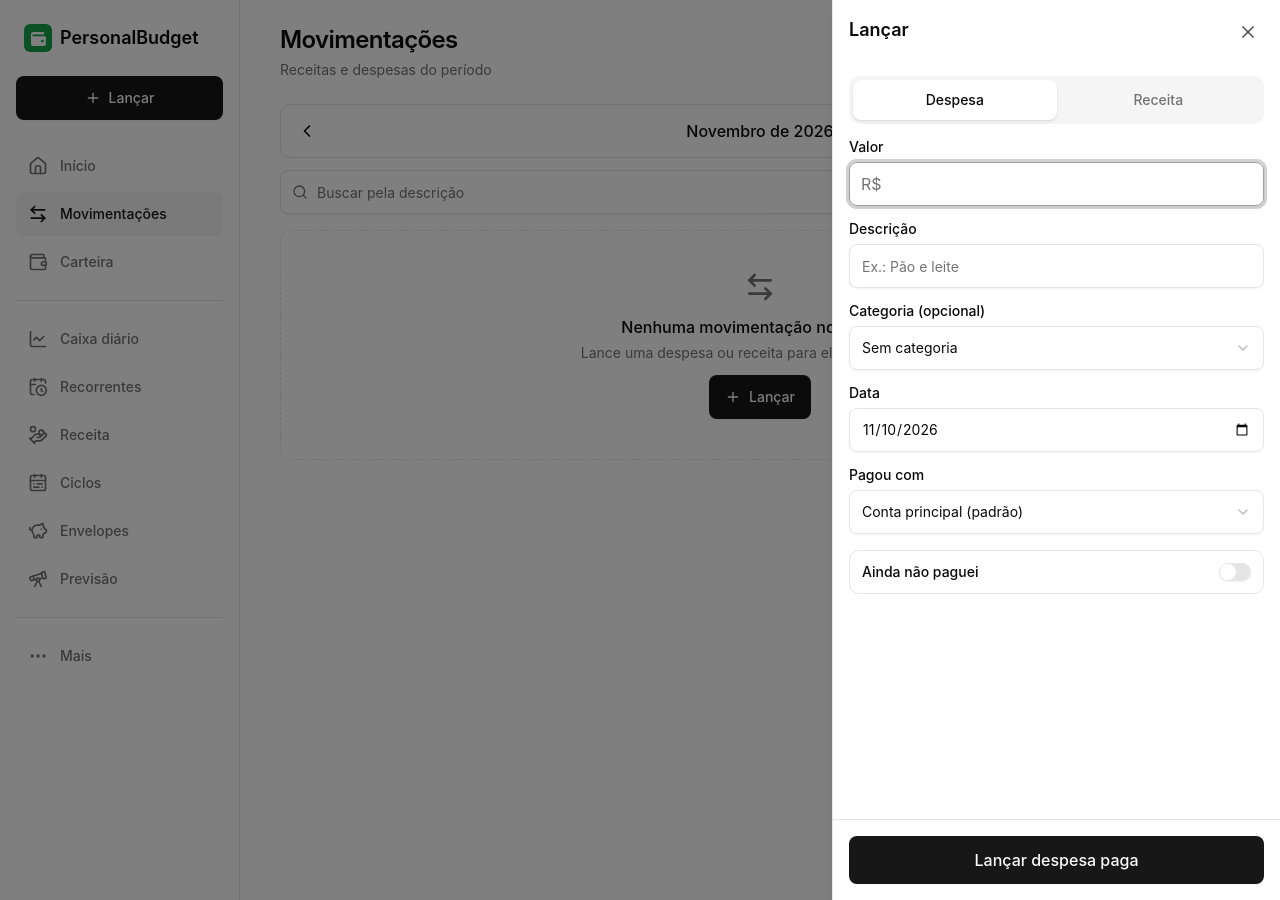
Test: QuickLaunchSheet › should launch on a card as a one-installment purchase and remember the card
Type "49,90" into the field labelled "Valor". click: (1056, 184)
box: [849, 162, 1264, 206]
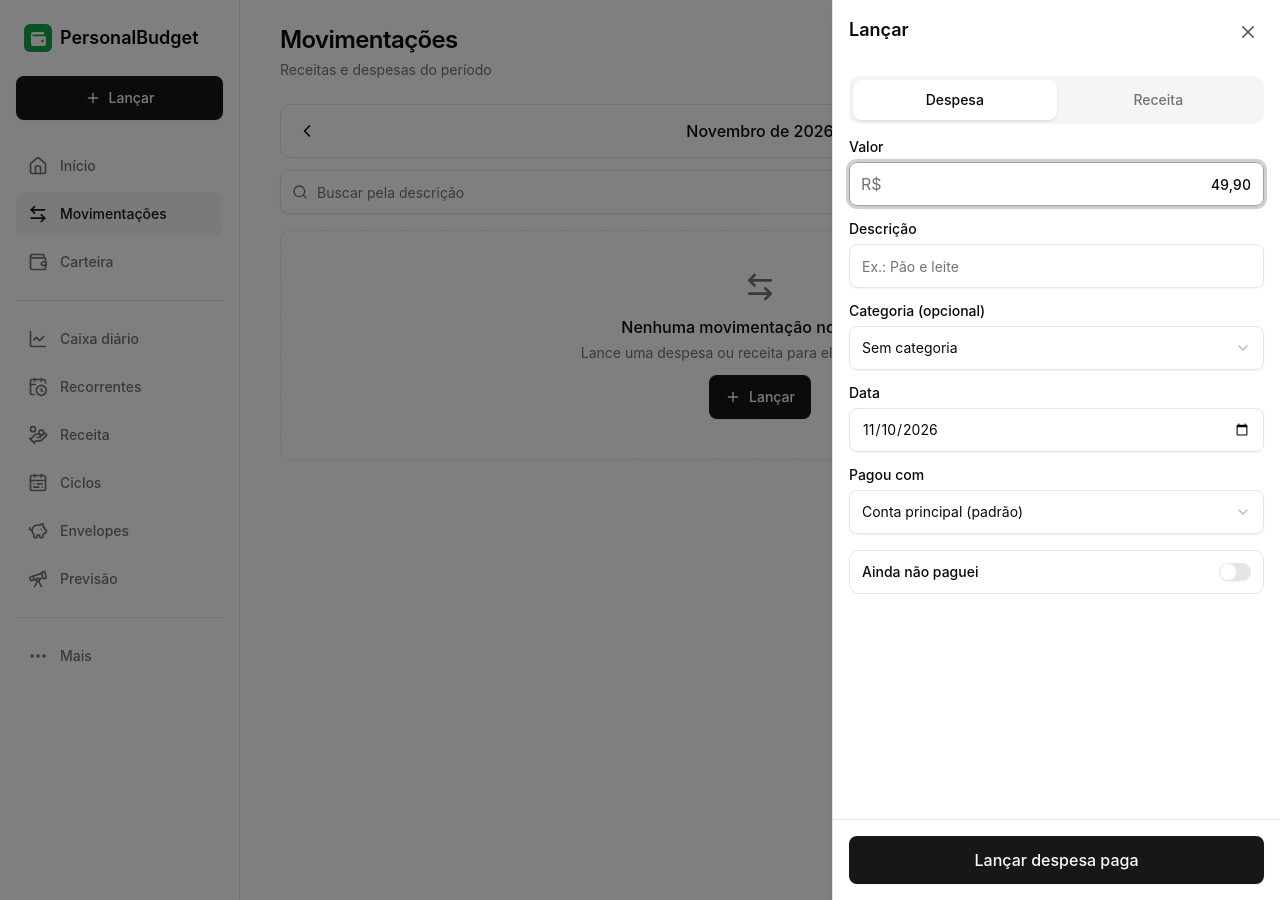
Type "Livro novo" into the field labelled "Descrição". click: (1056, 266)
box: [849, 244, 1264, 288]
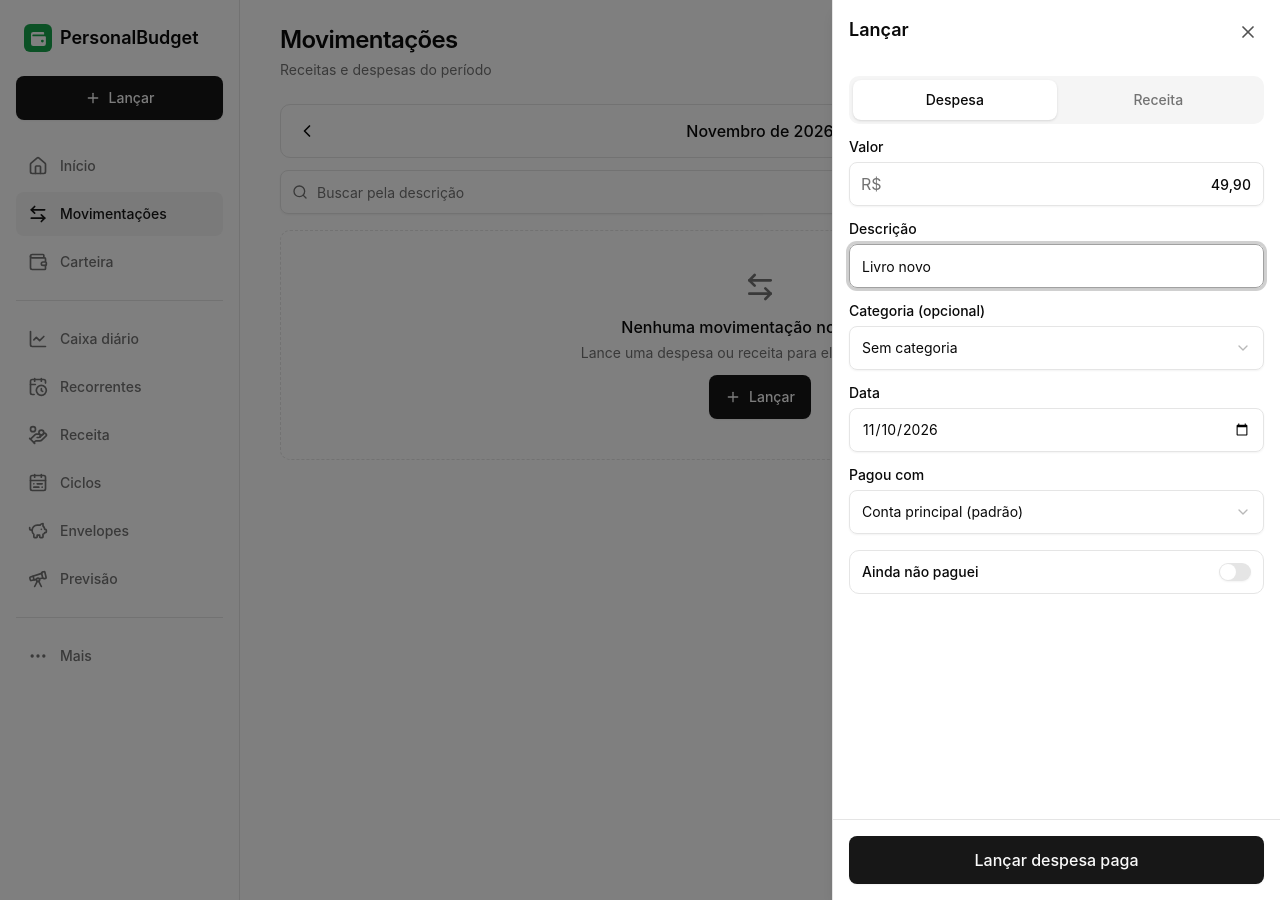
Click the dropdown named "Pagou com". click: (912, 512)
box: [849, 490, 1264, 534]
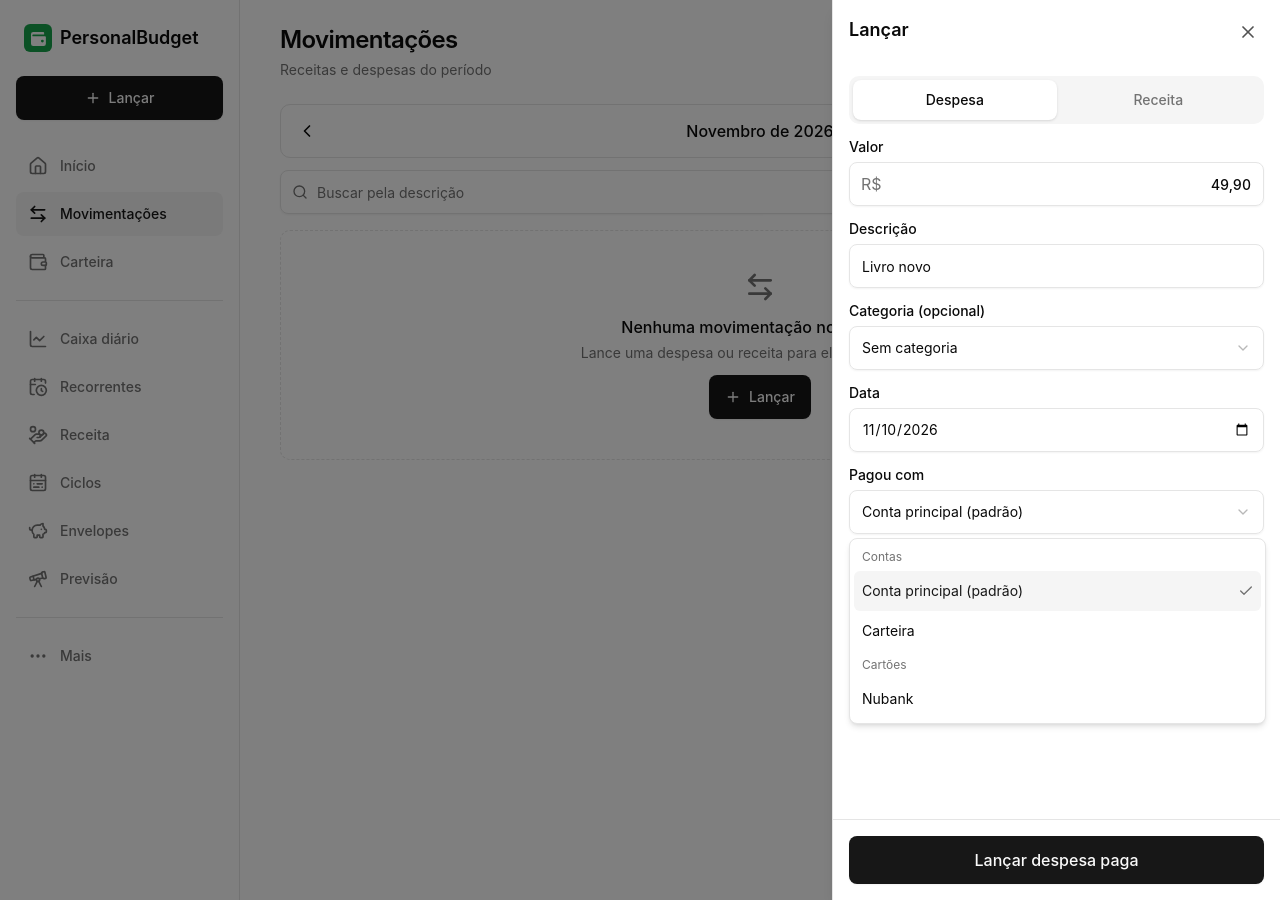
Click the option "Nubank". click: (888, 698)
box: [862, 690, 913, 707]
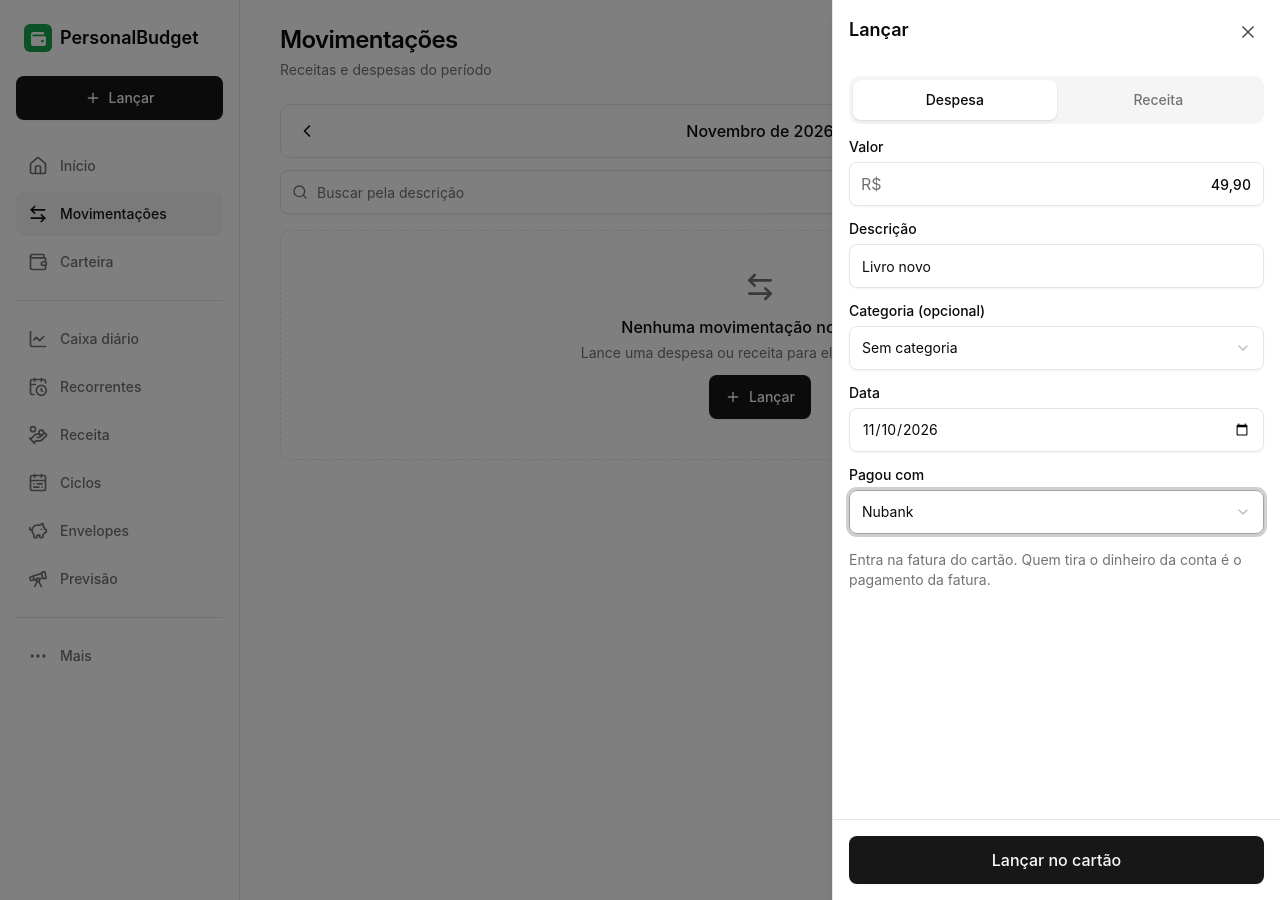
Now the switch is gone
Click the button "Lançar no cartão". click: (1056, 860)
box: [849, 836, 1264, 884]
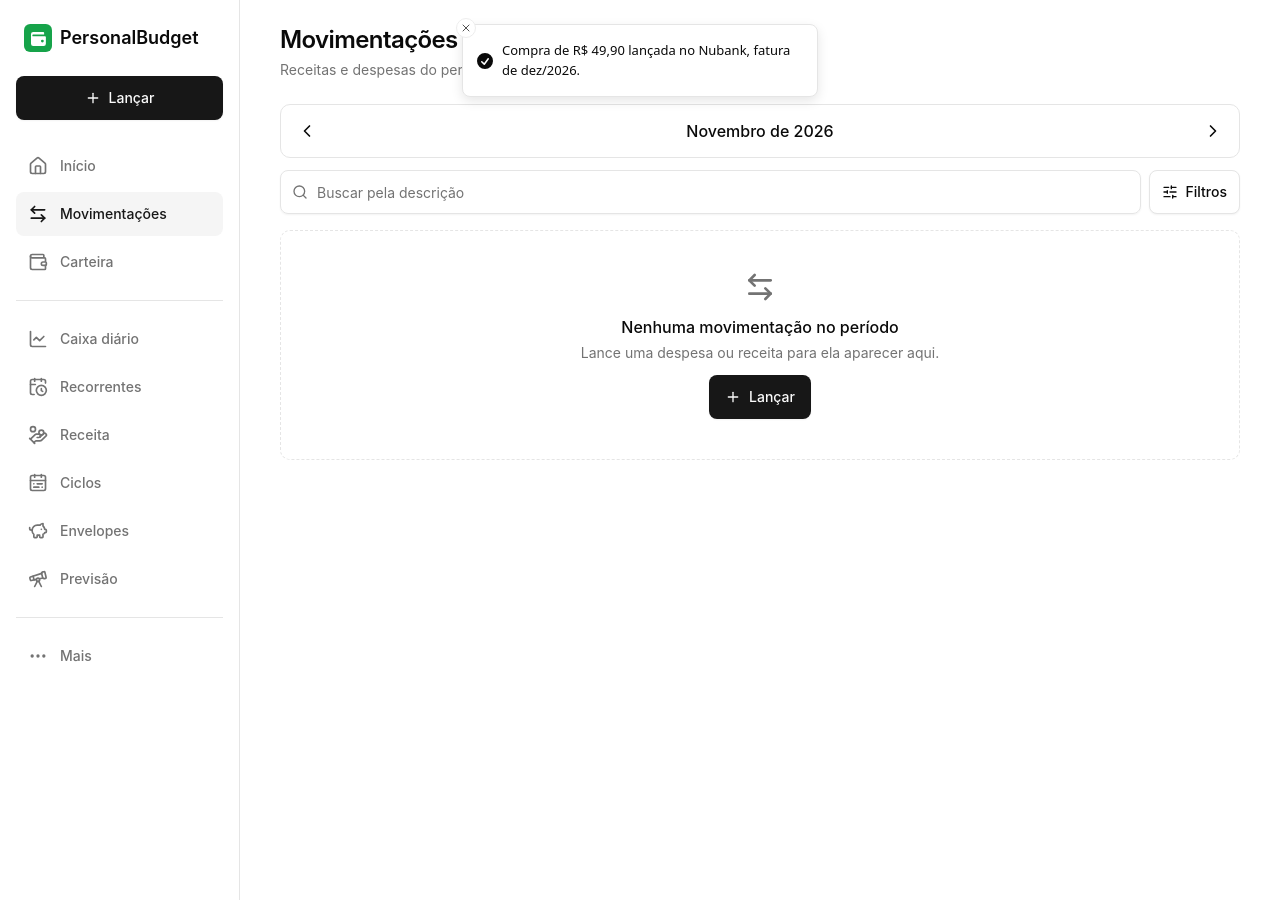
Now the text "Compra de R$ 49,90 lançada no Nubank, fatura de dez/2026." is shown, box [502, 41, 801, 80]
